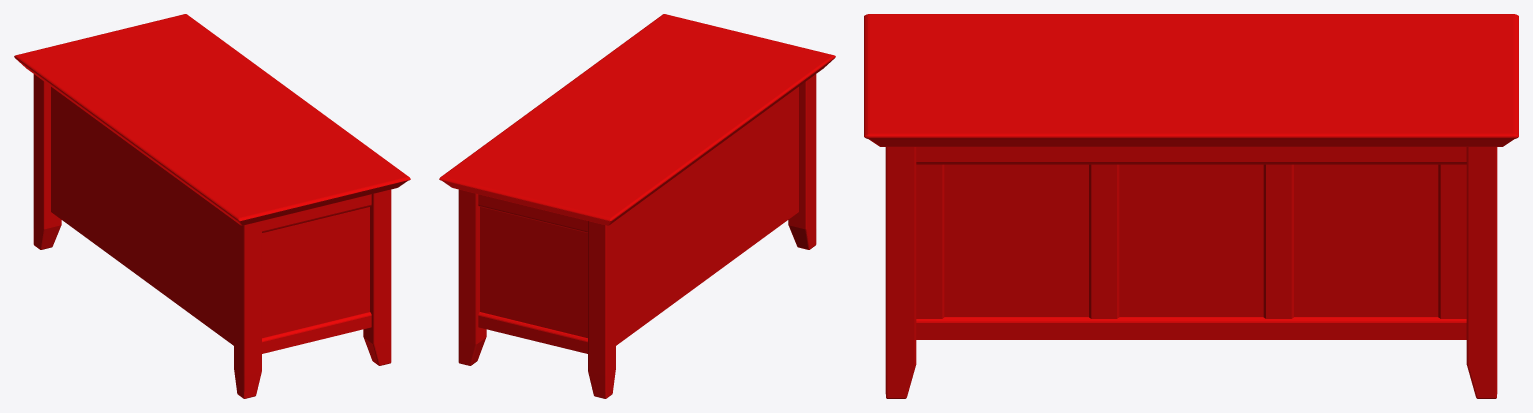
The model's file is BedChest.fbx.
3 views of the same model, side by side, from view 1: azimuth 30°, elevation 25°; view 2: azimuth 150°, elevation 25°; view 3: azimuth 270°, elevation 25° (orthographic). The views are drawn at different scales.
Visible parts, largest first — view 1: Cube.001, Cube, Cube.002, Cube.006, Cube.007; view 2: Cube.001, Cube, Cube.002, Cube.006, Cube.007; view 3: Cube.001, Cube, Cube.005, Cube.002, Cube.004, Cube.003.
Boxes of the visible parts, box(x1,y1,x2,y2) form: Cube.001: box(14, 14, 410, 225); Cube: box(51, 87, 369, 345); Cube.002: box(33, 74, 391, 398); Cube.006: box(262, 312, 371, 353); Cube.007: box(262, 194, 371, 232); Cube.001: box(439, 14, 835, 225); Cube: box(480, 87, 798, 345); Cube.002: box(458, 74, 816, 398); Cube.006: box(478, 312, 587, 353); Cube.007: box(478, 194, 587, 232); Cube.001: box(864, 14, 1518, 146); Cube: box(944, 164, 1438, 316); Cube.005: box(916, 164, 1466, 318); Cube.002: box(885, 147, 1497, 398); Cube.004: box(916, 317, 1466, 339); Cube.003: box(916, 147, 1466, 164).
Bounding box in the file's own units: 68.46 × 71.43 × 155.
